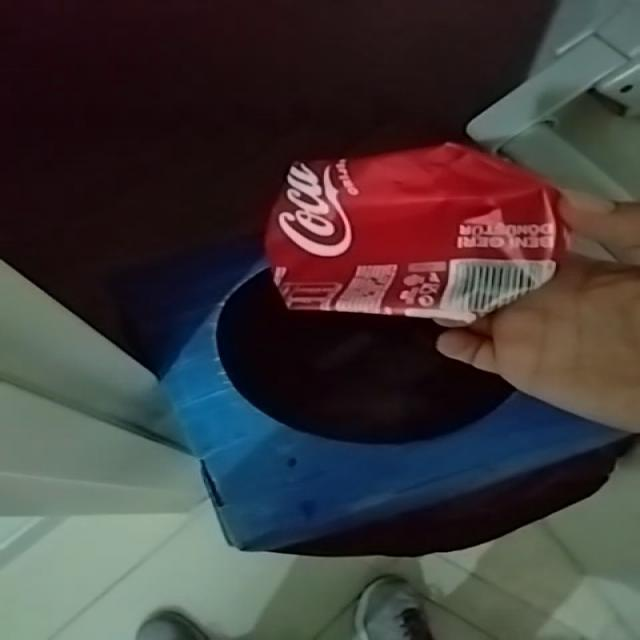Bin: (163, 262, 632, 557)
Metal: (265, 142, 567, 323)
